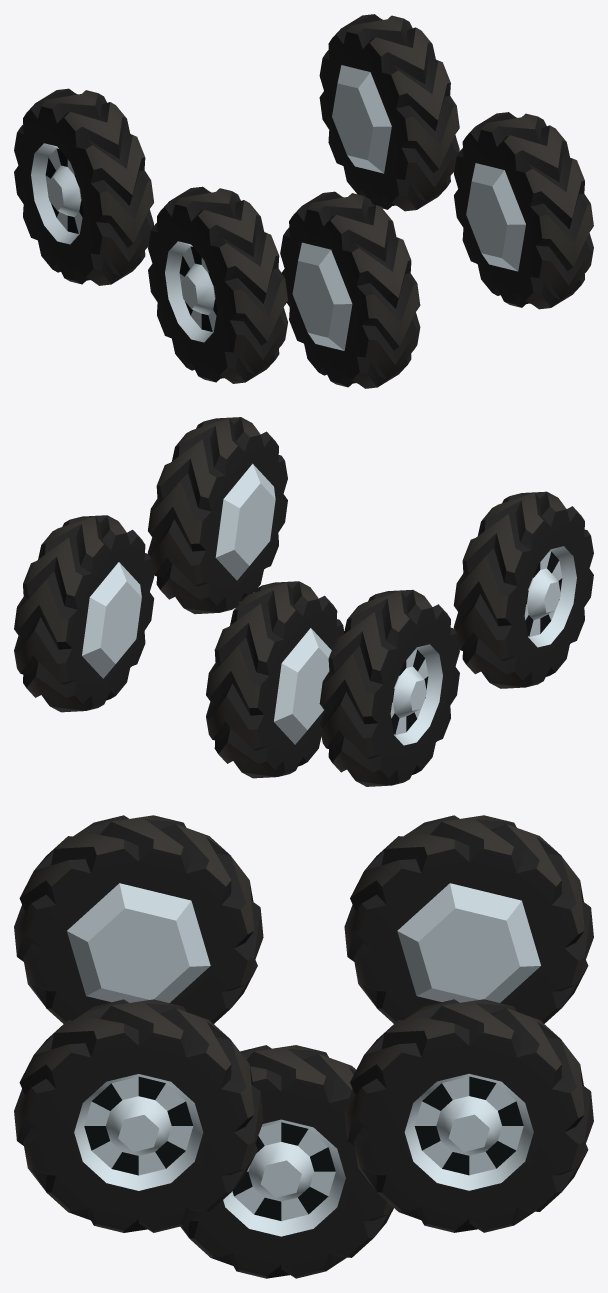
The model's file is Wheels_poly_Car6-Buggy_01 (1).FBX.
The picture shows the model from 3 angles, top to bottom: view 1: azimuth 30°, elevation 25°; view 2: azimuth 150°, elevation 25°; view 3: azimuth 270°, elevation 25°; orthographic projection. The views are drawn at different scales.
Parts seen in each view (by area): view 1: Car6_Buggy_Wheels_1_02, Car6_Buggy_Wheels_1_04, Car6_Buggy_Wheels_1_03, Car6_Buggy_Wheels_1_01, Car6_Buggy_Wheels_1_С_01; view 2: Car6_Buggy_Wheels_1_01, Car6_Buggy_Wheels_1_03, Car6_Buggy_Wheels_1_02, Car6_Buggy_Wheels_1_04, Car6_Buggy_Wheels_1_С_01; view 3: Car6_Buggy_Wheels_1_04, Car6_Buggy_Wheels_1_01, Car6_Buggy_Wheels_1_02, Car6_Buggy_Wheels_1_03, Car6_Buggy_Wheels_1_С_01.
Boxes of the visible parts, x1,y1,x2,y2 form: Car6_Buggy_Wheels_1_02: (148, 186, 287, 383); Car6_Buggy_Wheels_1_04: (454, 112, 593, 309); Car6_Buggy_Wheels_1_03: (14, 88, 153, 285); Car6_Buggy_Wheels_1_01: (319, 14, 459, 211); Car6_Buggy_Wheels_1_С_01: (280, 191, 420, 388); Car6_Buggy_Wheels_1_01: (14, 515, 154, 712); Car6_Buggy_Wheels_1_03: (319, 589, 459, 786); Car6_Buggy_Wheels_1_02: (453, 491, 593, 688); Car6_Buggy_Wheels_1_04: (148, 417, 287, 614); Car6_Buggy_Wheels_1_С_01: (206, 581, 344, 778); Car6_Buggy_Wheels_1_04: (14, 999, 263, 1232); Car6_Buggy_Wheels_1_01: (344, 999, 593, 1232); Car6_Buggy_Wheels_1_02: (14, 815, 263, 1023); Car6_Buggy_Wheels_1_03: (344, 815, 593, 1023); Car6_Buggy_Wheels_1_С_01: (180, 1045, 393, 1278).
Bounding box in the file's own units: 40.75 × 45.69 × 29.69.
